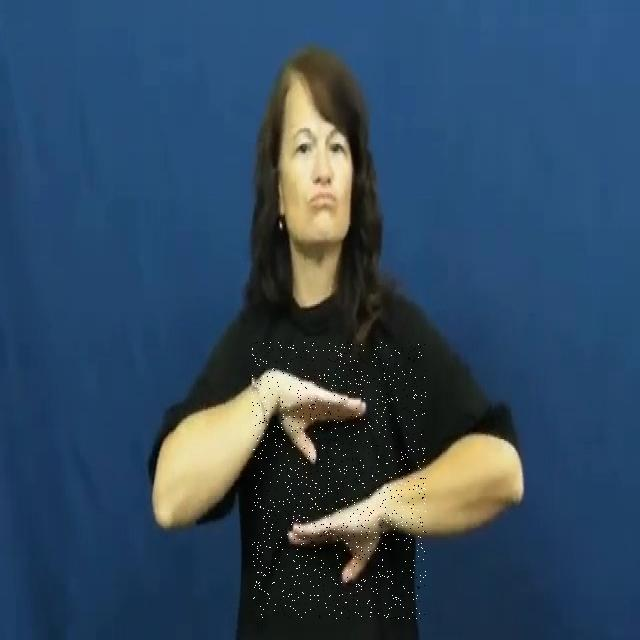enjoy: (252, 342, 426, 619)
